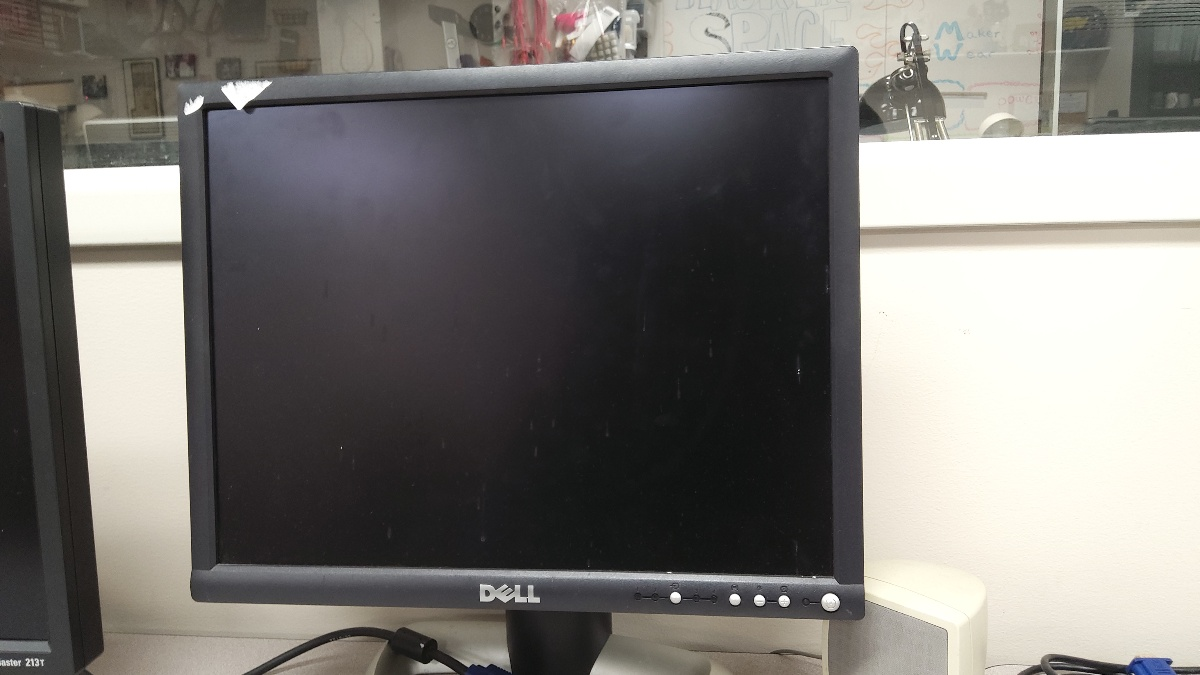monitor: (170, 48, 876, 630)
